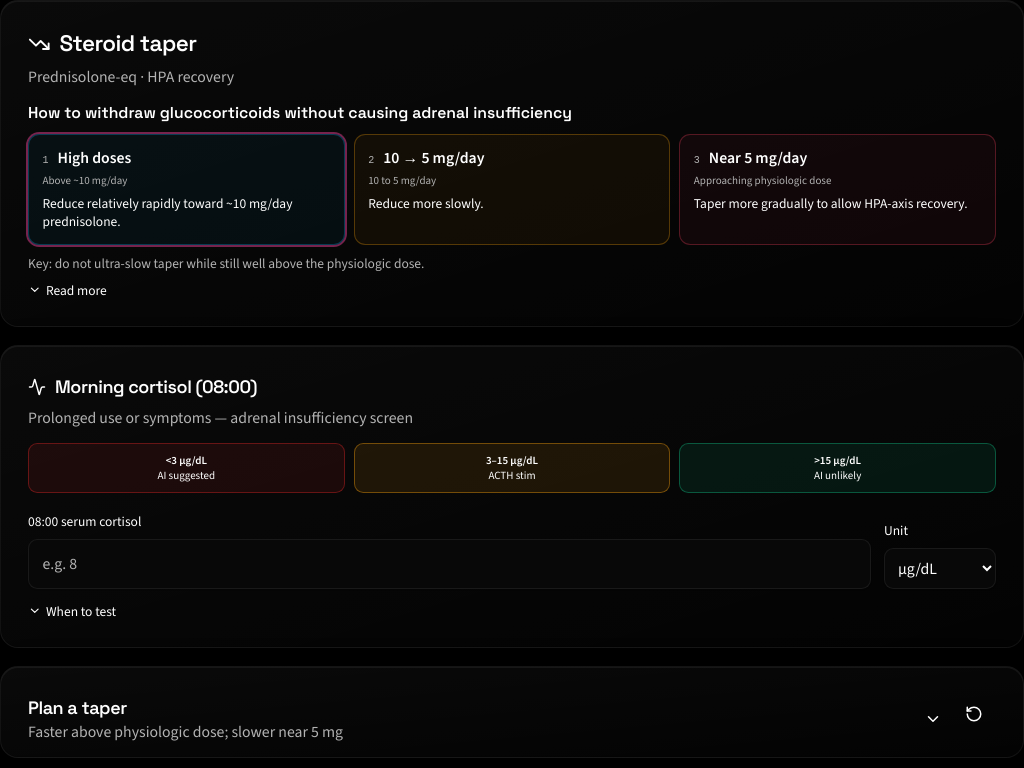
Scenario: Steroid taper UI (progressive disclosure) › interprets 8 µg/dL as ACTH stim and 16 µg/dL as unlikely
Step 1. Type "8" into the number field labelled "08:00 serum cortisol" → coordinates (449, 564), box [28, 539, 870, 589]
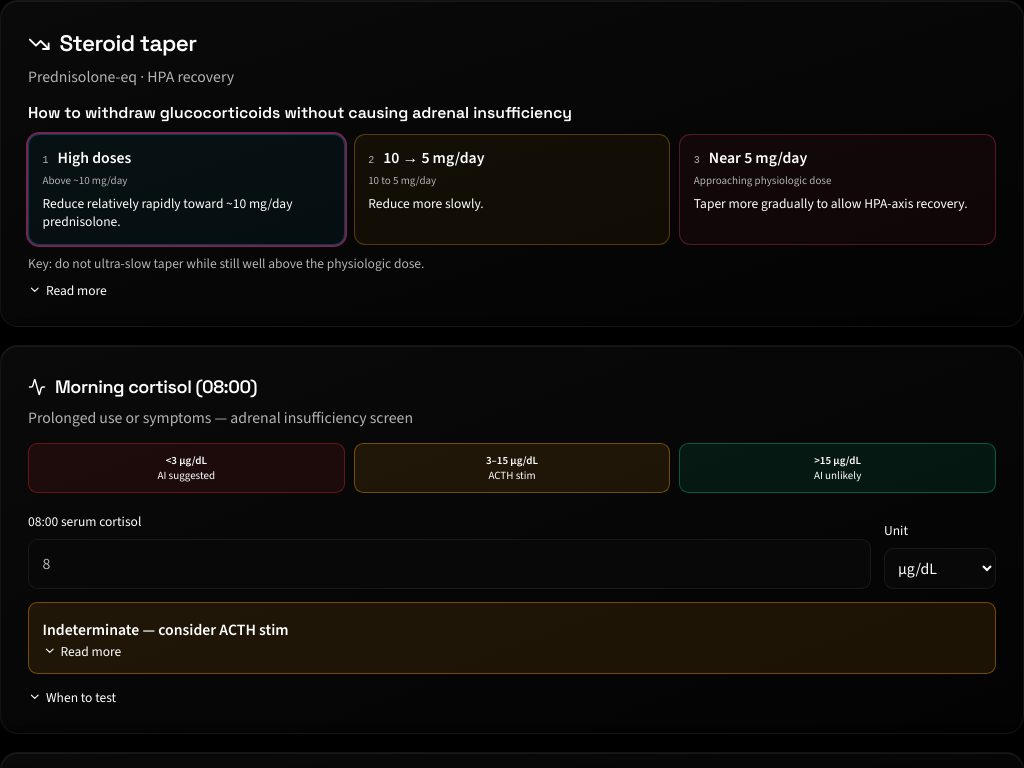
Check: the text "Indeterminate — consider ACTH stim" is shown, box [42, 619, 289, 640]
Step 2. Replace the text in the number field labelled "08:00 serum cortisol" with "16" → coordinates (449, 564), box [28, 539, 870, 589]
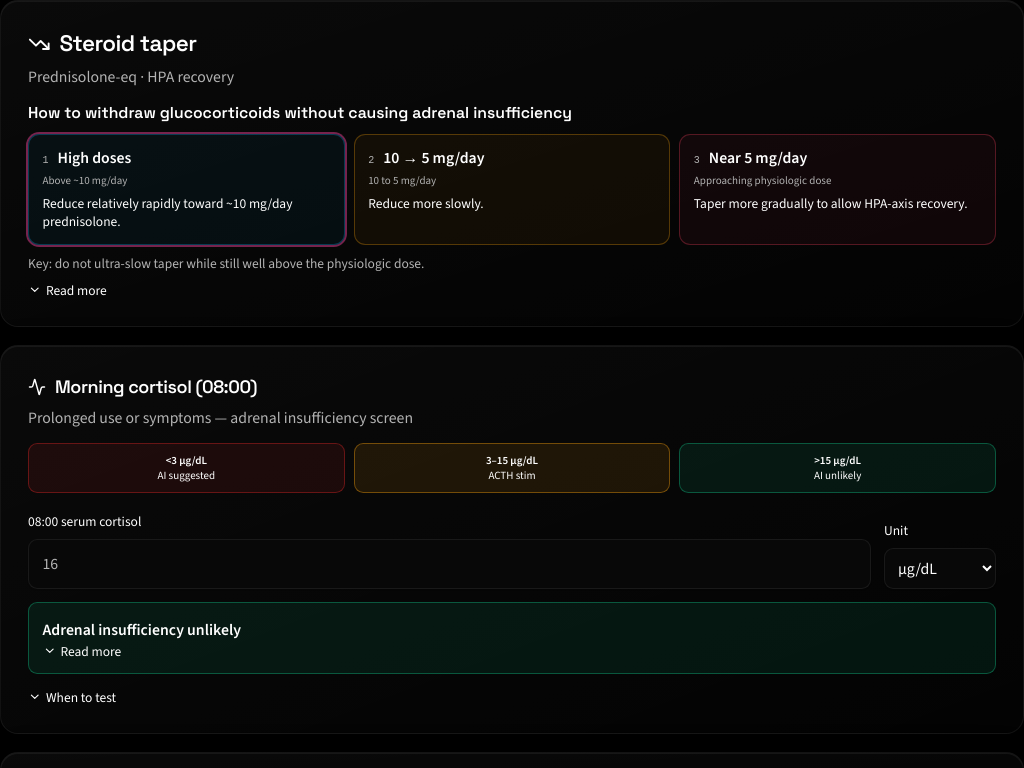
Check: the text "Adrenal insufficiency unlikely" is shown, box [42, 619, 241, 640]
